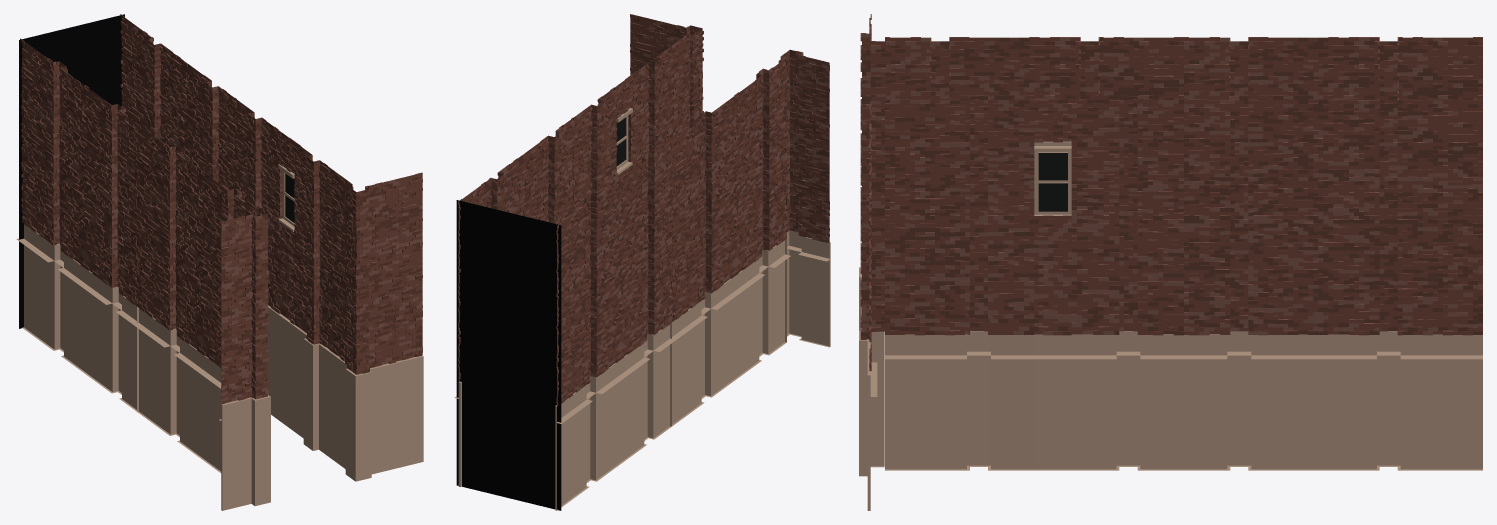
File: ModularWall__Alley.fbx
3 views of the same model, side by side, from view 1: azimuth 30°, elevation 25°; view 2: azimuth 150°, elevation 25°; view 3: azimuth 270°, elevation 25° (orthographic). The views are drawn at different scales.
Visible parts, largest first — view 1: ModularWall._Alley; view 2: ModularWall._Alley; view 3: ModularWall._Alley.
Boxes of the visible parts, bbox=[...] form: ModularWall._Alley: bbox=[16, 14, 423, 510]; ModularWall._Alley: bbox=[454, 14, 830, 510]; ModularWall._Alley: bbox=[859, 14, 1482, 510].
Bounding box in the file's own units: 951 × 1303 × 1983.
